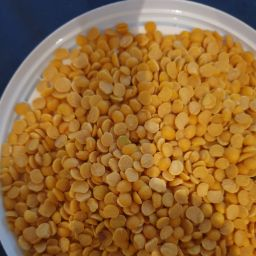Pigeon Pea(toor daal): (12, 15, 256, 256), (83, 33, 256, 218), (39, 69, 209, 251), (89, 100, 232, 256)
